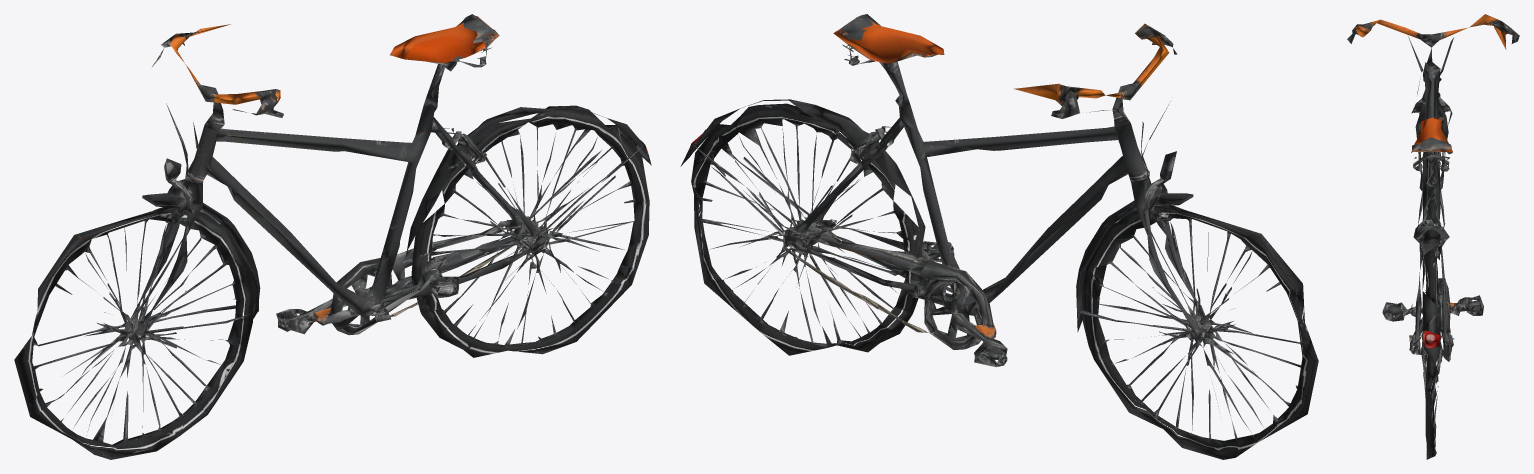
File: bicycle_lod1.glb
3 renders of one model, left to right at view 1: azimuth 30°, elevation 25°; view 2: azimuth 150°, elevation 25°; view 3: azimuth 270°, elevation 25°, orthographic. The views are drawn at different scales.
Visible parts, largest first — view 1: mesh_node; view 2: mesh_node; view 3: mesh_node.
Part boxes in pixels (x1=…): mesh_node: x1=14, y1=14, x2=651, y2=459; mesh_node: x1=680, y1=14, x2=1318, y2=459; mesh_node: x1=1347, y1=14, x2=1519, y2=459.
Bounding box in the file's own units: 1.9 × 1.06 × 0.5422.
Materials: 1 (1 with a texture image).
